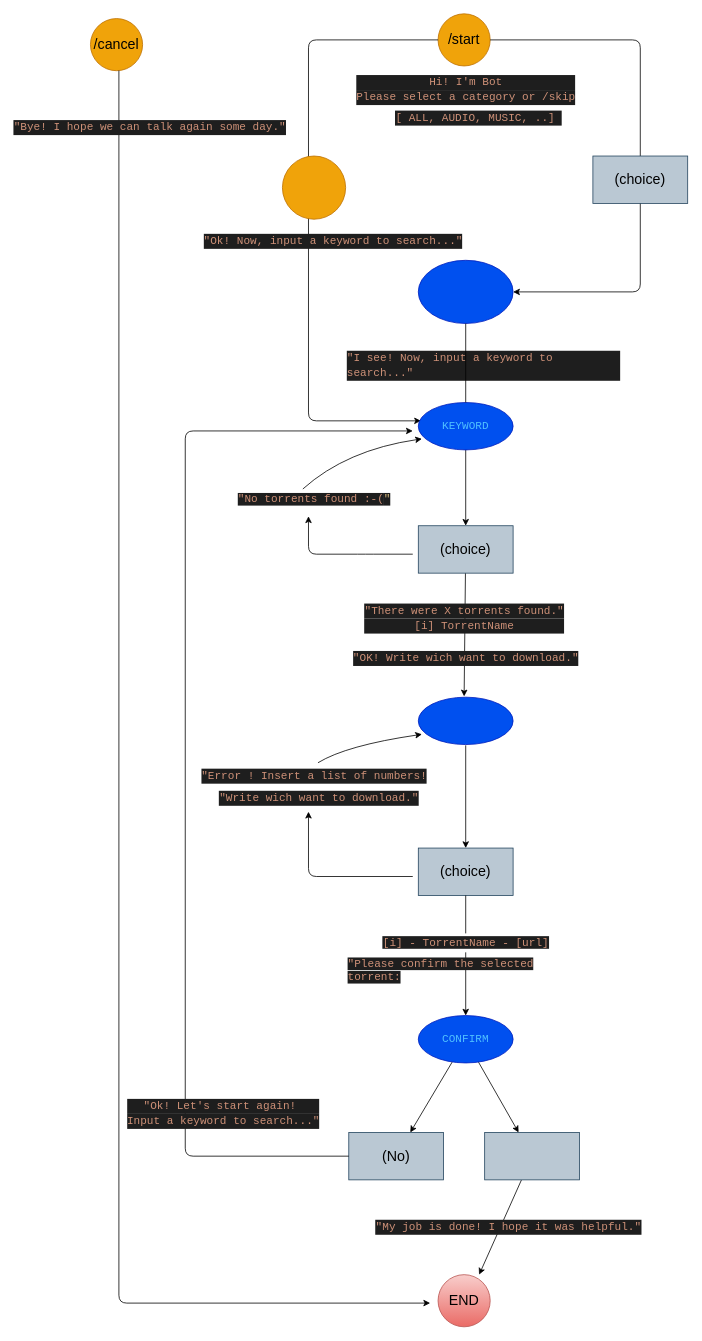
Some shapes in this 702 by 1341 pixel diagram are drawn without their labels. The shapes that lost their labels are listed below. From the top down, each one's centre as x and y in pixels, then its label:
At point (314, 187): "/skip".
At point (465, 292): "CATEGORIES".
At point (465, 720): "CHOOSE".
At point (531, 1156): "(Yes)".
